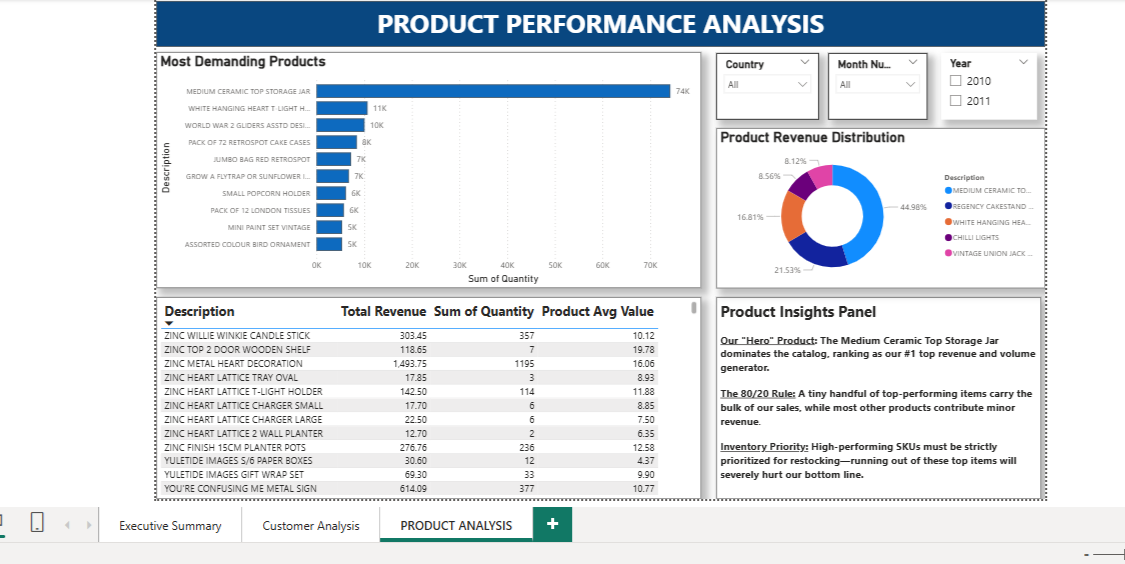

This screenshot's page, from the dashboard's own definition file:
{"tool":"powerbi","page":{"name":"PRODUCT ANALYSIS","canvas":[1280,720],"ordinal":2},"visuals":[{"type":"textbox","box":[0,2.9,1280.2,66.2],"z":0},{"type":"clusteredBarChart","title":"Most Demanding Products","fields":{"Category":["cleaned_online_retail.Description"],"Y":["Sum(cleaned_online_retail.Quantity)"]},"box":[0,76.9,784.8,339.7],"z":1000},{"type":"tableEx","fields":{"Values":["cleaned_online_retail.Description","cleaned_online_retail.Total Revenue","Sum(cleaned_online_retail.Quantity)","cleaned_online_retail.Product Avg Value"]},"box":[0,429.1,784.8,291.4],"z":2000},{"type":"textbox","box":[806.3,429.1,468.4,291.4],"z":3000},{"type":"slicer","fields":{"Values":["cleaned_online_retail.Country"]},"box":[806.4,77.8,148.3,96.5],"z":4000},{"type":"slicer","fields":{"Values":["cleaned_online_retail.Month Number"]},"box":[967.7,77.8,142.6,96.5],"z":5000},{"type":"slicer","fields":{"Values":["cleaned_online_retail.Year"]},"box":[1130.4,77.8,138.2,96.5],"z":6000},{"type":"donutChart","title":"Product Revenue Distribution","fields":{"Category":["cleaned_online_retail.Description"],"Y":["cleaned_online_retail.Total Revenue"]},"box":[806.3,185.9,473.7,230.6],"z":7000}]}

Visuals, with their boxes on the page's 1280x720 design canvas (x1, y1, x2, y2). These are canvas units, not pixel positions in the 1125x564 screenshot, which may show the page scaled, cropped or inside an application window:
textbox: 0 3 1280 69
"Most Demanding Products" clusteredBarChart: 0 77 785 417
tableEx - cleaned_online_retail.Description x cleaned_online_retail.Total Revenue: 0 429 785 720
textbox: 806 429 1275 720
slicer - cleaned_online_retail.Country: 806 78 955 174
slicer - cleaned_online_retail.Month Number: 968 78 1110 174
slicer - cleaned_online_retail.Year: 1130 78 1269 174
"Product Revenue Distribution" donutChart: 806 186 1280 416
